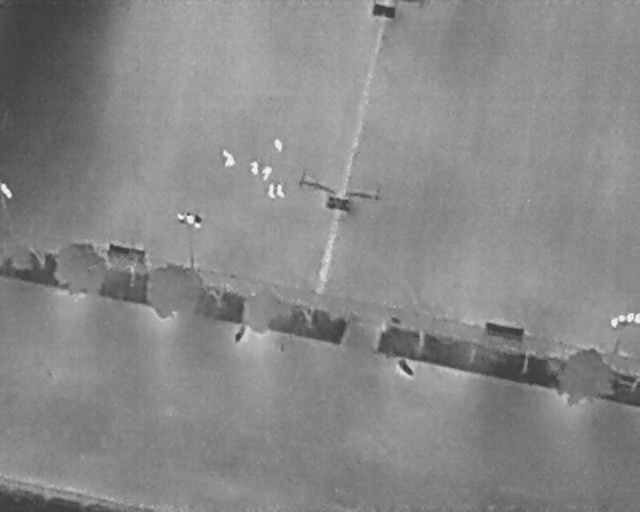Person: (223, 149, 235, 168), (273, 137, 283, 152), (262, 166, 272, 181), (276, 183, 285, 198), (268, 183, 276, 199), (251, 162, 259, 176)
